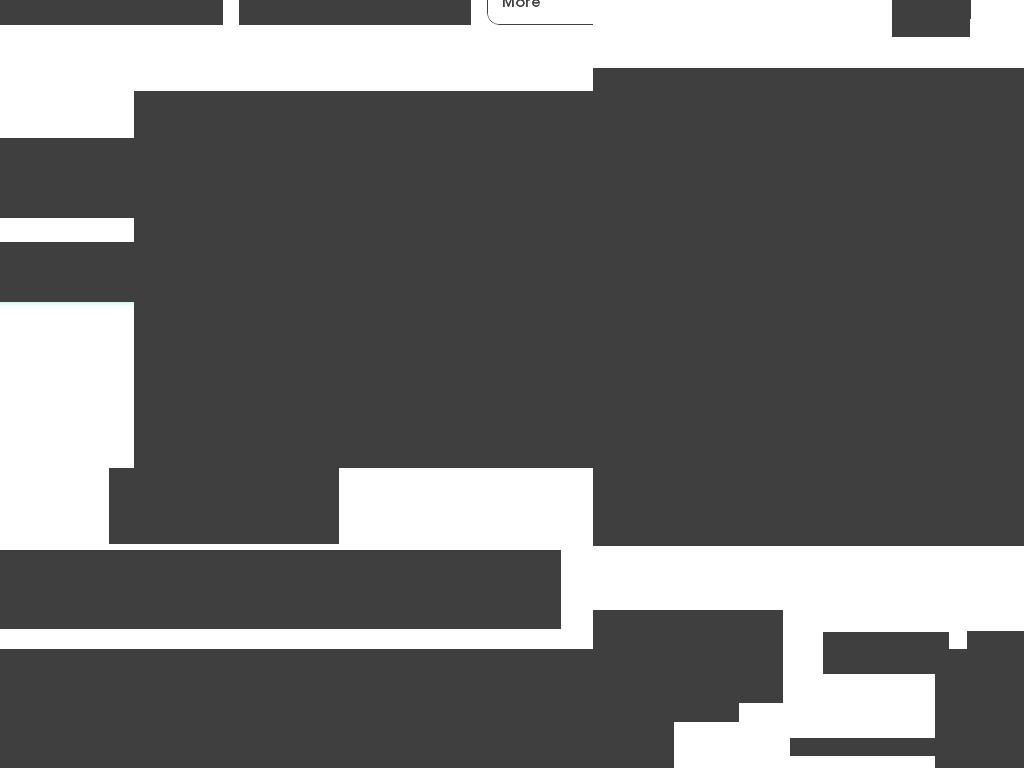button: (593, 68, 1024, 468), (109, 468, 339, 544), (42, 550, 183, 629), (0, 751, 593, 768), (373, 550, 483, 629), (276, 550, 374, 629), (182, 550, 277, 629), (482, 550, 561, 629), (239, 0, 471, 25), (0, 0, 223, 25), (823, 632, 949, 674), (593, 686, 739, 722), (0, 550, 43, 629), (487, 0, 593, 25), (967, 631, 1024, 675), (892, 0, 971, 19)
field: (0, 242, 593, 302)
heading: (593, 335, 1024, 444)
iframe: (0, 649, 593, 768)
image: (134, 91, 593, 468), (593, 68, 1024, 468), (593, 468, 1024, 545), (935, 649, 1024, 768), (593, 649, 674, 768), (109, 501, 339, 541), (892, 0, 970, 37), (204, 751, 244, 768)
text: (593, 610, 783, 703), (0, 138, 137, 218), (593, 316, 1024, 336), (790, 738, 973, 756), (6, 0, 108, 12), (254, 0, 303, 12), (502, 0, 541, 12), (593, 738, 614, 756)
